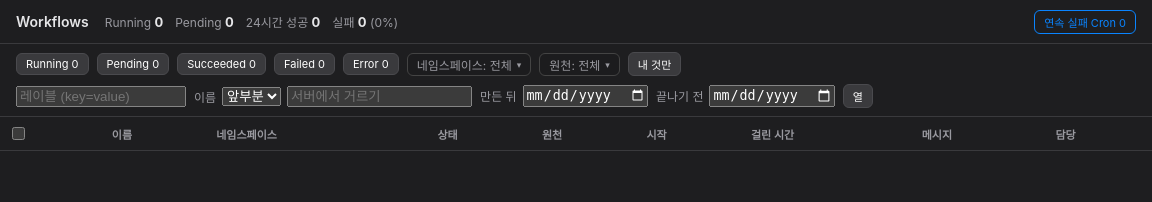
Test: 서버 info의 열과 내 것만을 보인다
Check: the column heading "담당" is shown, box [1047,117,1151,150]
Click the button "내 것만": (655, 64) [628,52,681,76]
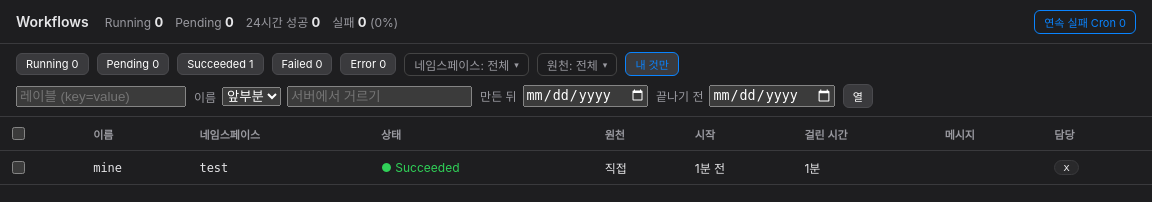
Check: the text "mine" is shown, box [85,150,191,184]
